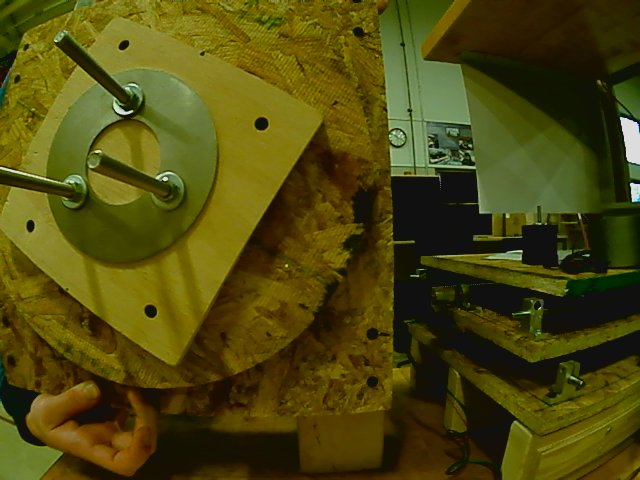bolt: (149, 171, 187, 213), (111, 81, 146, 119), (61, 173, 89, 212)
